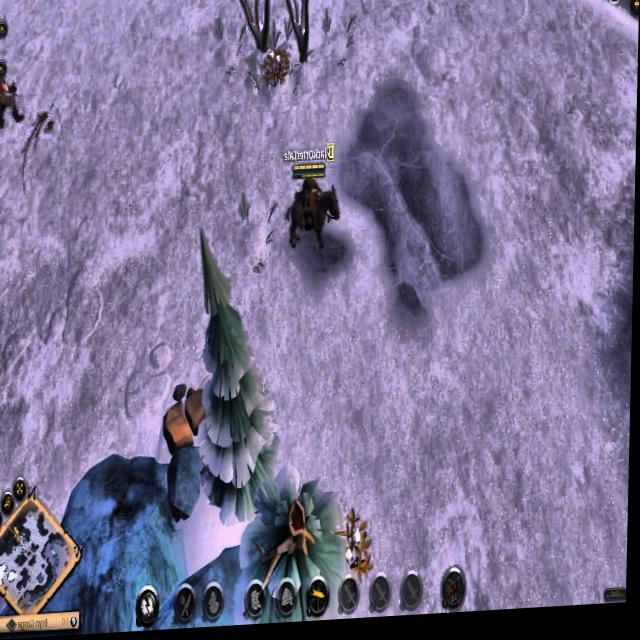limestone: (162, 381, 215, 453)
